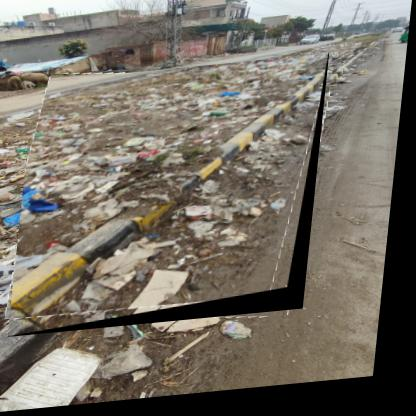Garbage: (17, 61, 333, 340)
